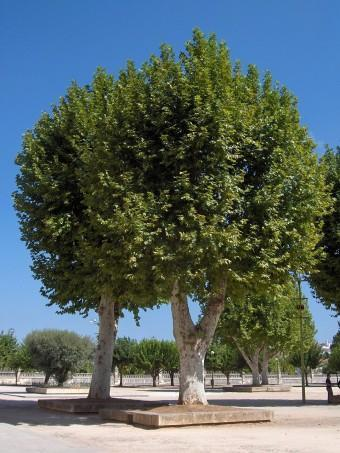tree: (60, 31, 324, 401), (17, 74, 206, 412)
